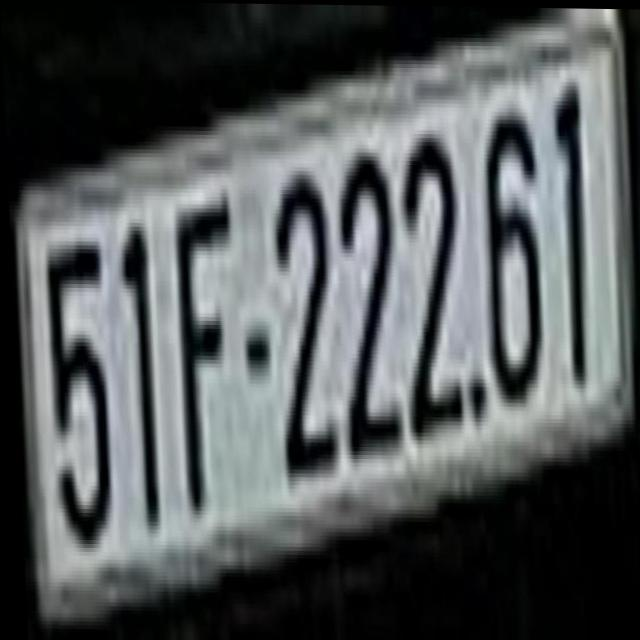1: (118, 222, 168, 584), (552, 65, 590, 406)
2: (334, 140, 403, 455), (395, 133, 464, 447), (267, 182, 337, 488)
5: (38, 241, 112, 576)
6: (475, 79, 547, 418)
F: (166, 184, 241, 530)
